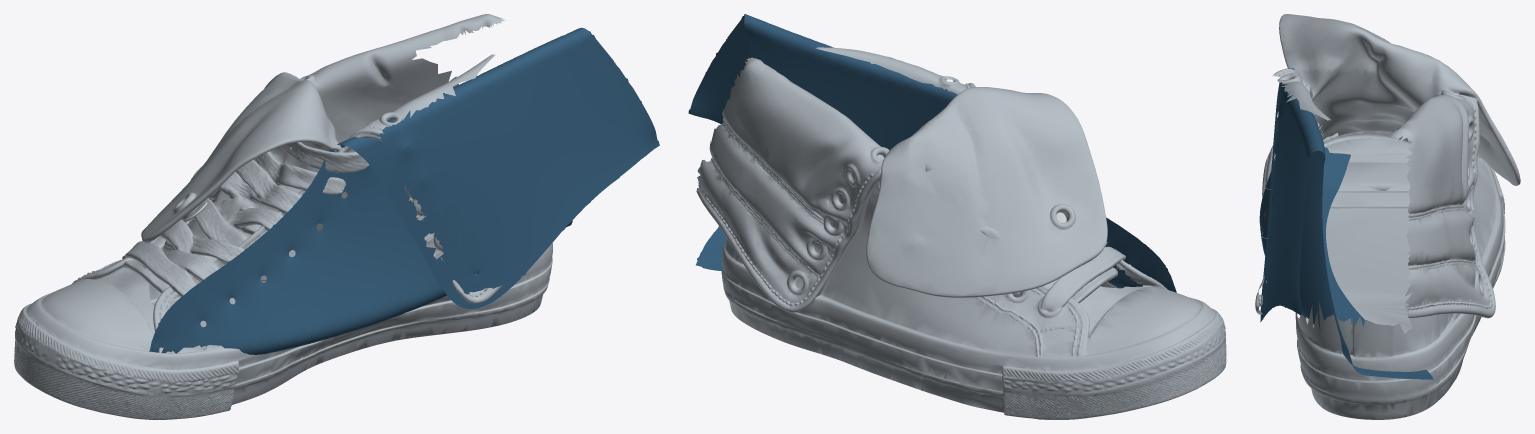
Rendered from detachable-side.glb.
3 views of the same model, side by side, from view 1: azimuth 30°, elevation 25°; view 2: azimuth 150°, elevation 25°; view 3: azimuth 270°, elevation 25° (orthographic). The views are drawn at different scales.
Visible parts, largest first — view 1: ONWARD_Detachable_Real_Pattern_Side, Footwear_Details_Unclassified, Tongue_Flap_And_Local_Repairs; view 2: Footwear_Details_Unclassified, Tongue_Flap_And_Local_Repairs, ONWARD_Detachable_Real_Pattern_Side; view 3: Footwear_Details_Unclassified, ONWARD_Detachable_Real_Pattern_Side, Tongue_Flap_And_Local_Repairs.
Part boxes in pixels (left/top/right/bottom): ONWARD_Detachable_Real_Pattern_Side: left=149, top=27, right=659, bottom=354; Footwear_Details_Unclassified: left=14, top=14, right=552, bottom=419; Tongue_Flap_And_Local_Repairs: left=141, top=72, right=362, bottom=244; Footwear_Details_Unclassified: left=696, top=47, right=1226, bottom=419; Tongue_Flap_And_Local_Repairs: left=898, top=87, right=1107, bottom=266; ONWARD_Detachable_Real_Pattern_Side: left=688, top=14, right=1176, bottom=292; Footwear_Details_Unclassified: left=1255, top=14, right=1520, bottom=419; ONWARD_Detachable_Real_Pattern_Side: left=1259, top=68, right=1433, bottom=379; Tongue_Flap_And_Local_Repairs: left=1285, top=14, right=1494, bottom=148.
Size of the model in its own units: 2.05 by 0.897 by 0.7678.
